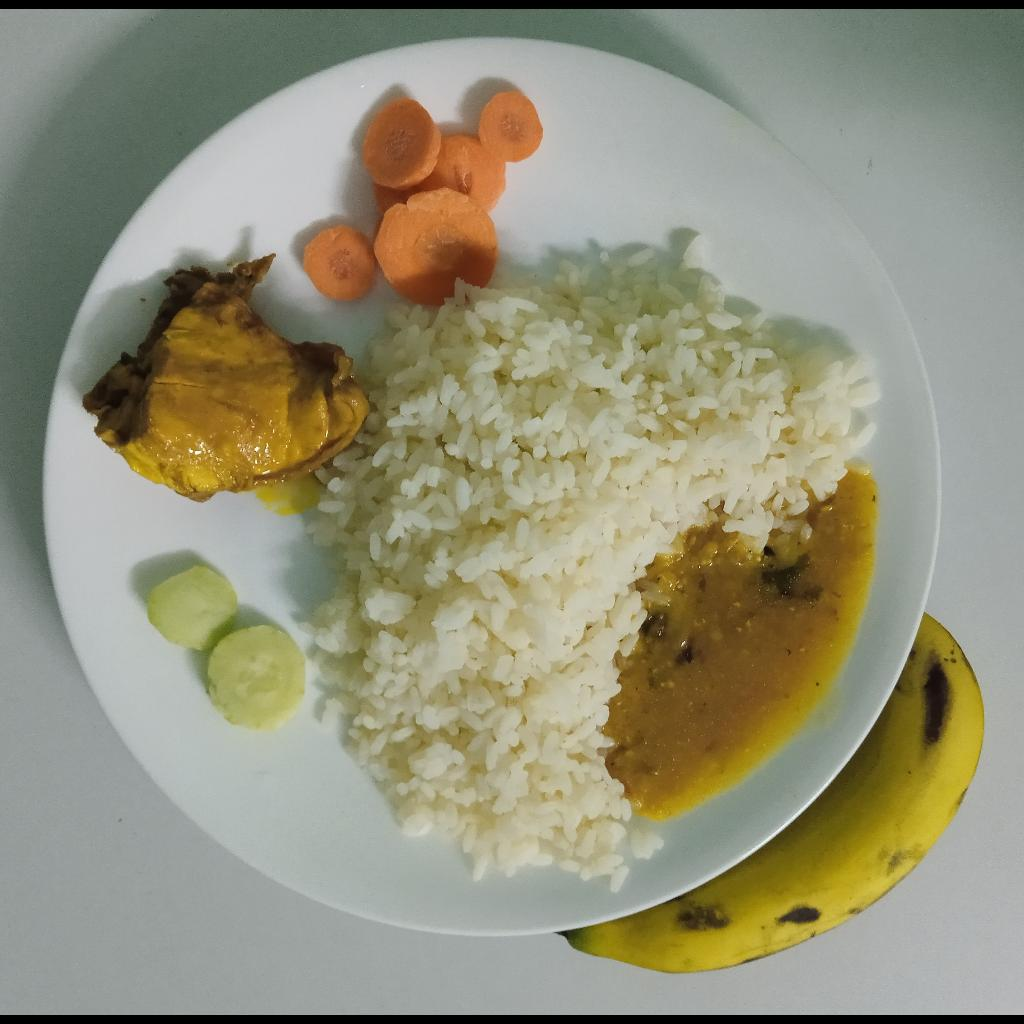banana: (557, 612, 985, 974)
carrot: (304, 89, 543, 306)
chicken: (79, 242, 369, 504)
cucumber: (147, 566, 307, 731)
daal: (602, 467, 876, 821)
rice: (302, 237, 881, 891)
